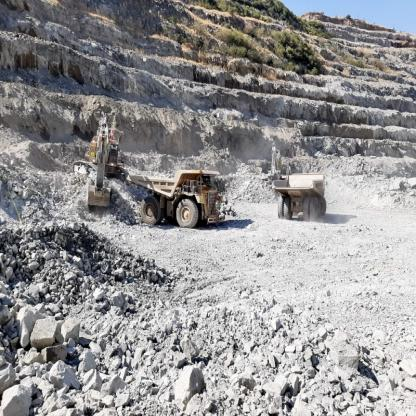dump_truck: (135, 154, 234, 236), (269, 165, 335, 221)
